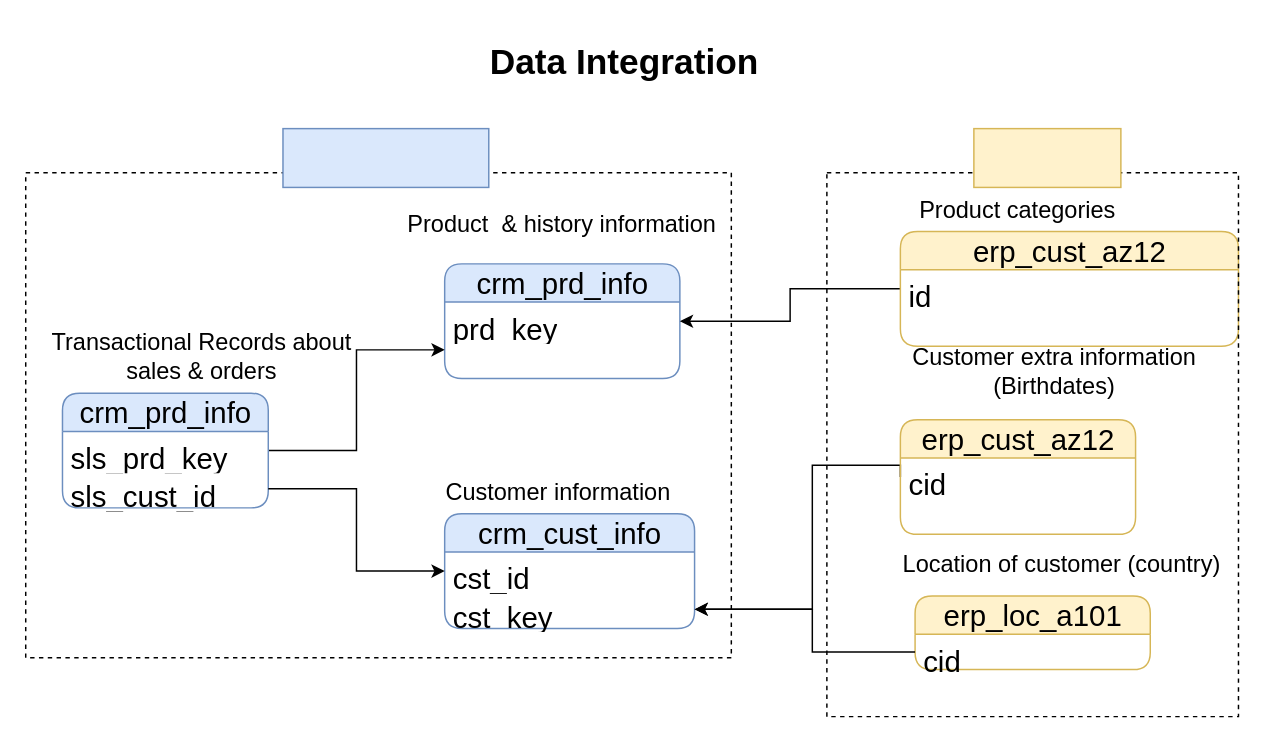
The diagram is 1264 pixels wide and 742 high, and some of its shapes have lost their labels. Each missing label, with the centre of its shape:
CRM: [385,157]
ERP: [1046,157]
